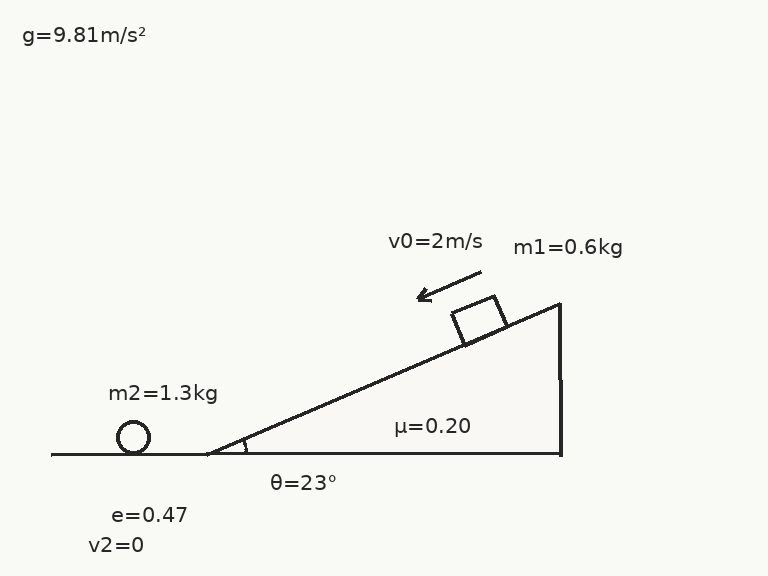ball: (114, 418, 152, 456)
block: (449, 293, 509, 346)
ramp: (204, 302, 561, 456)
